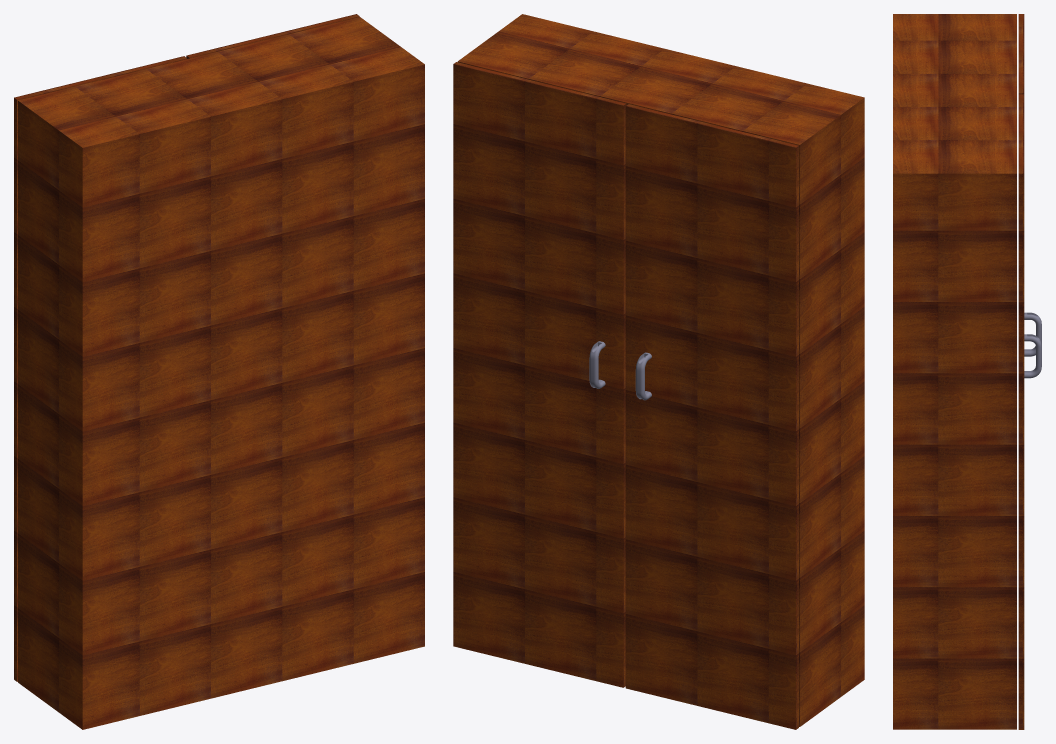
3 renders of one model, left to right at view 1: azimuth 30°, elevation 25°; view 2: azimuth 150°, elevation 25°; view 3: azimuth 270°, elevation 25°, orthographic. The views are drawn at different scales.
Parts seen in each view (by area): view 1: mesh1_mesh1-geometry, mesh6_mesh6-geometry; view 2: mesh6_mesh6-geometry, mesh1_mesh1-geometry, mesh5_mesh5-geometry; view 3: mesh1_mesh1-geometry, mesh6_mesh6-geometry, mesh5_mesh5-geometry.
Part boxes in pixels (box(x1,y1,x2,y2)): mesh1_mesh1-geometry: box(18, 17, 424, 729); mesh6_mesh6-geometry: box(14, 14, 359, 681); mesh6_mesh6-geometry: box(453, 62, 798, 729); mesh1_mesh1-geometry: box(457, 14, 864, 726); mesh5_mesh5-geometry: box(589, 341, 651, 400); mesh1_mesh1-geometry: box(893, 14, 1016, 729); mesh6_mesh6-geometry: box(1018, 14, 1024, 729); mesh5_mesh5-geometry: box(1024, 312, 1041, 378).
Size of the model in its own units: 0.5138 by 0.8338 by 0.2021.
